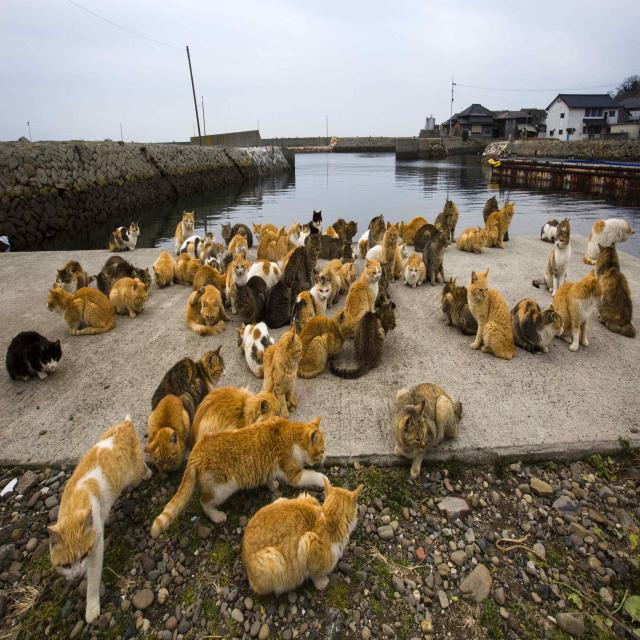cat: (49, 416, 151, 624), (151, 418, 325, 536), (241, 474, 360, 596), (392, 383, 462, 478), (190, 384, 280, 448), (151, 347, 225, 422), (330, 302, 396, 379), (468, 270, 515, 360), (298, 309, 355, 379), (145, 396, 190, 478), (48, 283, 115, 336), (264, 326, 302, 418), (226, 253, 282, 313), (532, 219, 571, 296), (510, 298, 564, 353), (6, 332, 62, 381), (345, 259, 381, 326), (291, 276, 331, 334), (95, 255, 151, 296), (186, 285, 230, 336), (441, 278, 478, 336), (236, 323, 274, 377), (286, 233, 321, 291), (265, 276, 301, 328), (321, 259, 356, 308), (109, 278, 149, 319), (235, 276, 269, 324), (422, 231, 451, 287), (485, 203, 515, 249), (56, 261, 94, 294), (192, 264, 226, 298), (180, 229, 216, 259), (434, 199, 459, 242), (380, 223, 399, 279), (275, 223, 300, 264), (319, 234, 354, 263), (258, 227, 286, 263), (399, 216, 428, 246), (109, 223, 140, 251), (174, 253, 201, 285), (456, 227, 488, 253), (152, 251, 175, 287), (175, 212, 194, 255), (358, 218, 378, 257), (221, 223, 252, 248), (414, 223, 439, 253), (404, 253, 426, 287), (375, 263, 391, 308), (332, 219, 358, 244), (368, 216, 386, 249), (252, 223, 280, 242), (395, 244, 408, 278), (482, 197, 499, 223), (229, 234, 248, 255), (366, 244, 382, 261), (324, 225, 339, 238), (504, 231, 509, 240)
